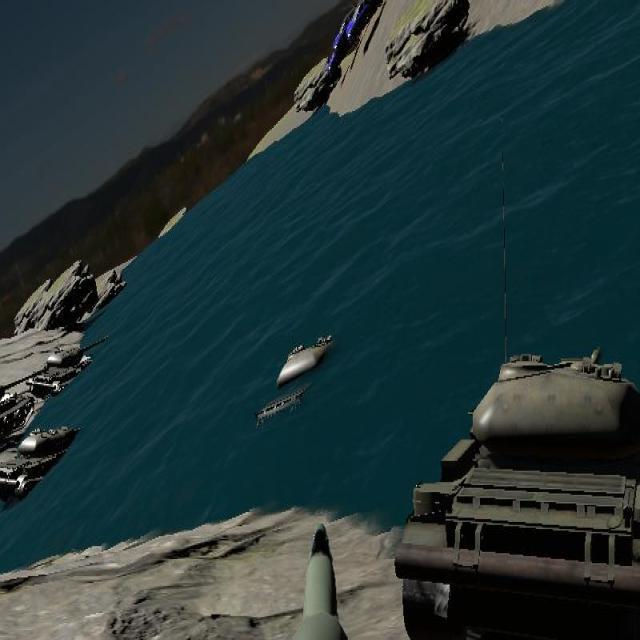Tank: (394, 347, 639, 640), (0, 422, 99, 502), (27, 336, 110, 398), (0, 369, 38, 448)
car: (345, 0, 385, 47), (345, 0, 371, 48), (351, 0, 386, 33)
